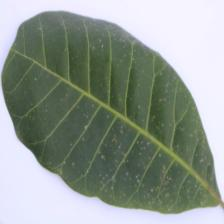red rust: (0, 10, 224, 216)
